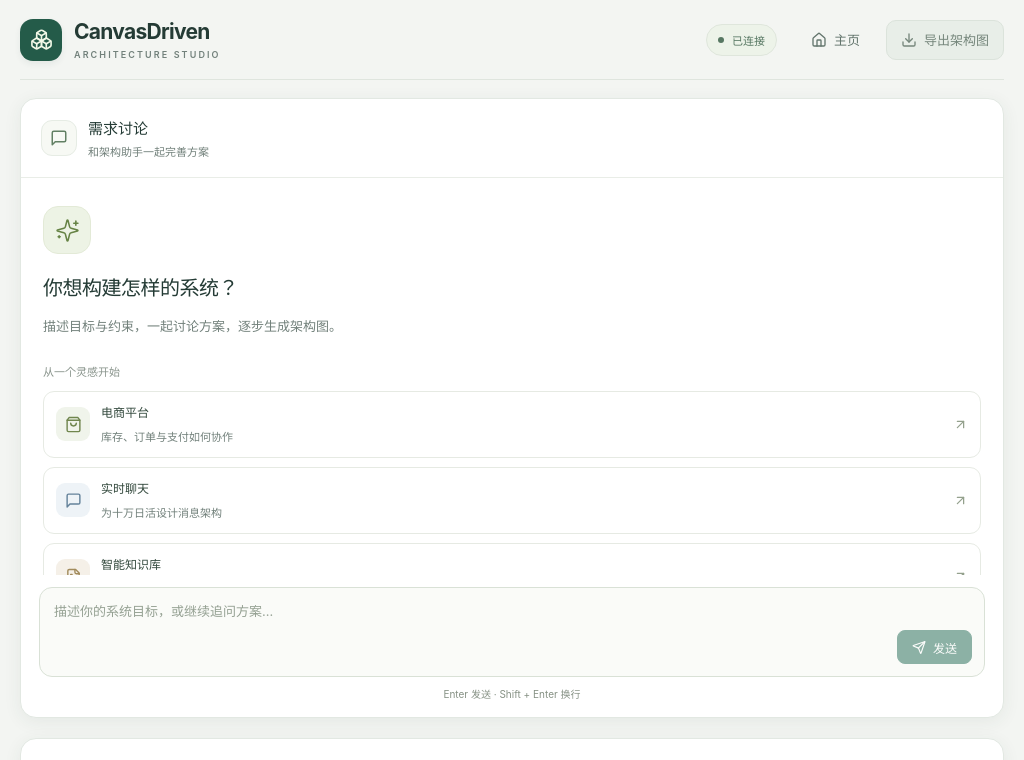
Test: prompt interactions › fills an example without sending it
The width and height of the screenshot is (1024, 760).
Click the button with aria-label "设计一个支持库存和支付的电商系统" at (73, 424), box [43,391,981,458]
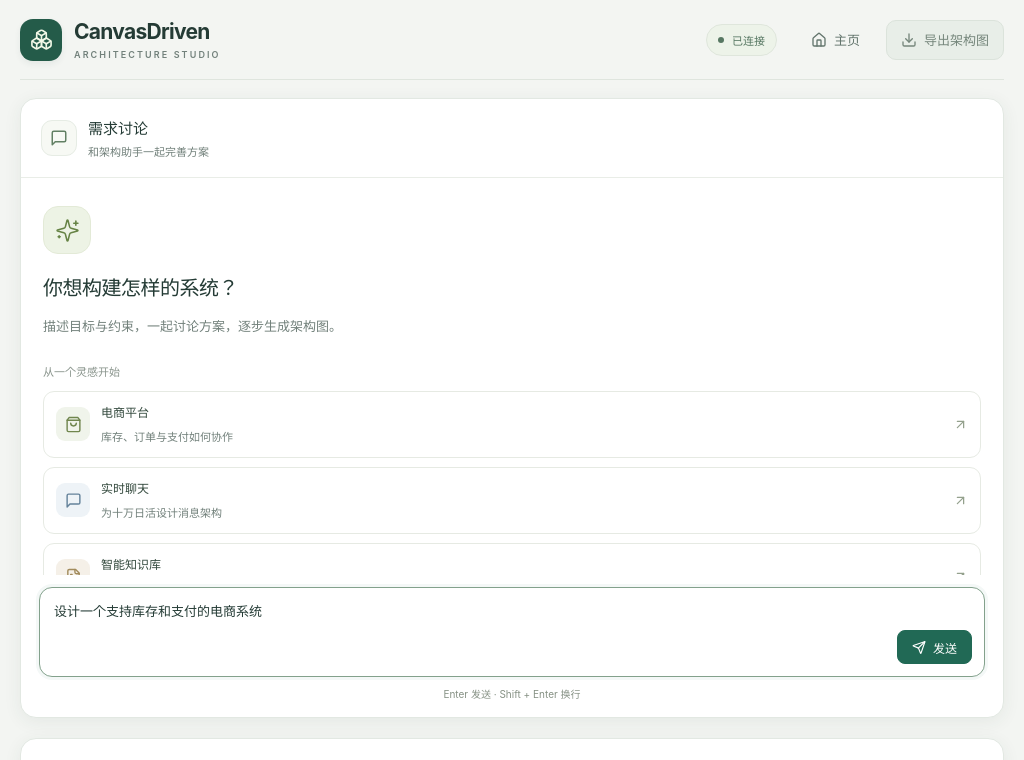
Expected: the text box holds "设计一个支持库存和支付的电商系统", [52,600,889,664]
